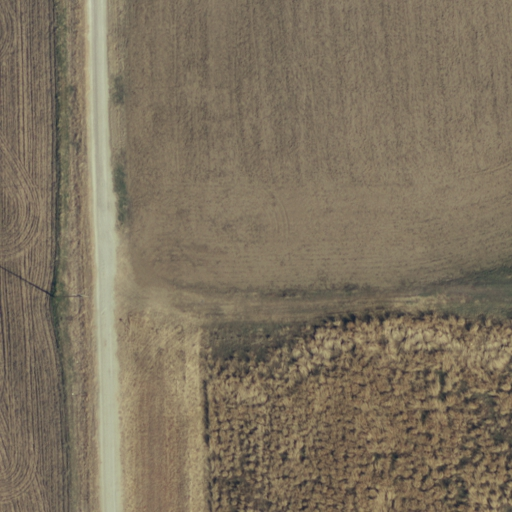DT: (45, 286, 91, 306)
